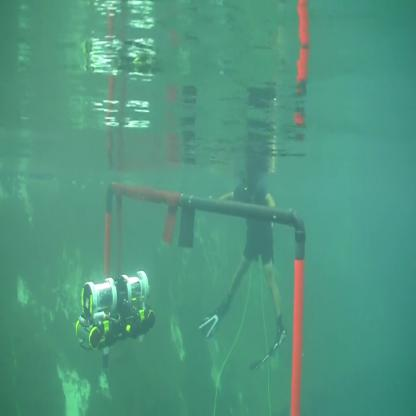gate: (100, 173, 310, 416)
